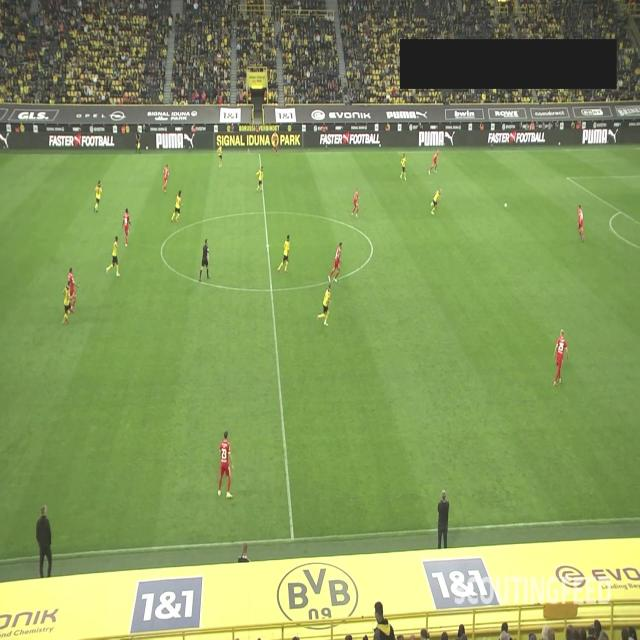player: (218, 430, 234, 498), (553, 329, 569, 387), (316, 282, 332, 326), (328, 241, 342, 283), (106, 235, 120, 277), (67, 267, 79, 313), (278, 234, 290, 274), (171, 190, 183, 222), (122, 208, 132, 246), (62, 284, 70, 324), (430, 188, 442, 214), (428, 149, 439, 174), (94, 180, 102, 214), (351, 186, 359, 218), (255, 165, 264, 192), (162, 163, 170, 193), (578, 204, 584, 242), (400, 152, 406, 181), (217, 144, 223, 168)
referee: (198, 238, 210, 282), (135, 128, 141, 155)
